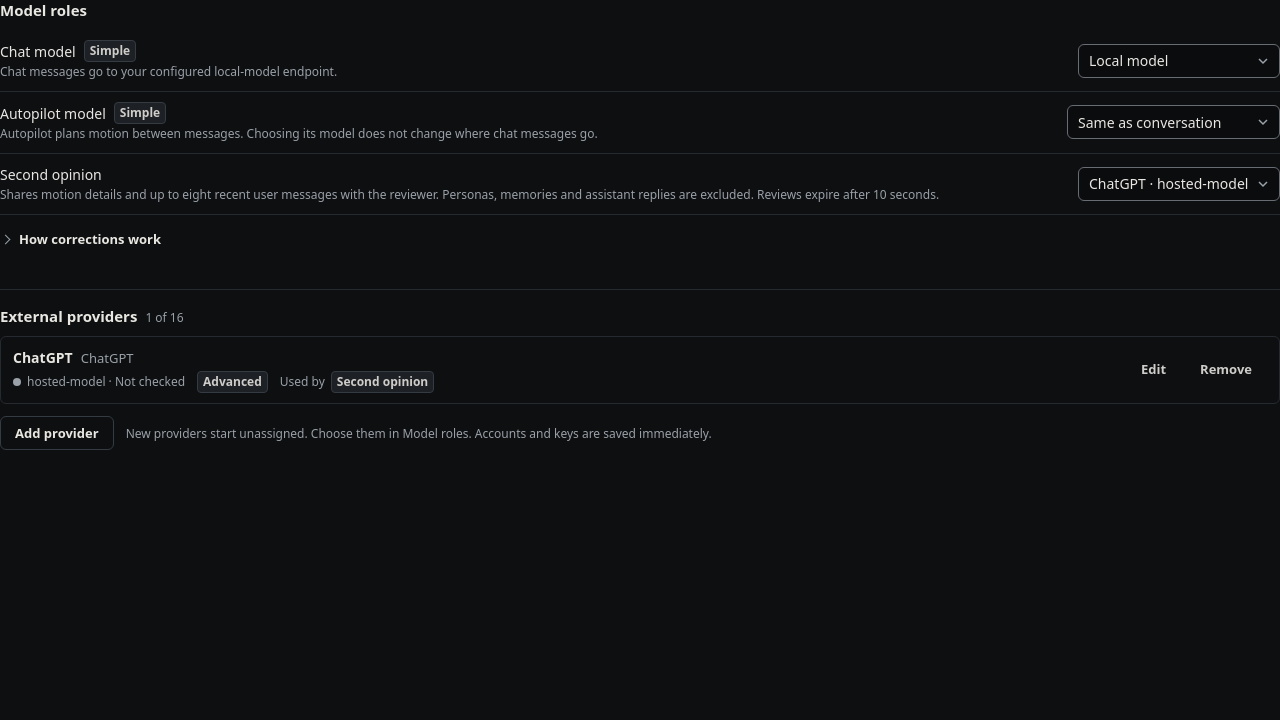
model roles and external providers › turns review off when its provider is removed instead of assigning the local model as its own reviewer
Click the button with aria-label "Remove · ChatGPT": (1226, 370) [1185,353,1267,387]
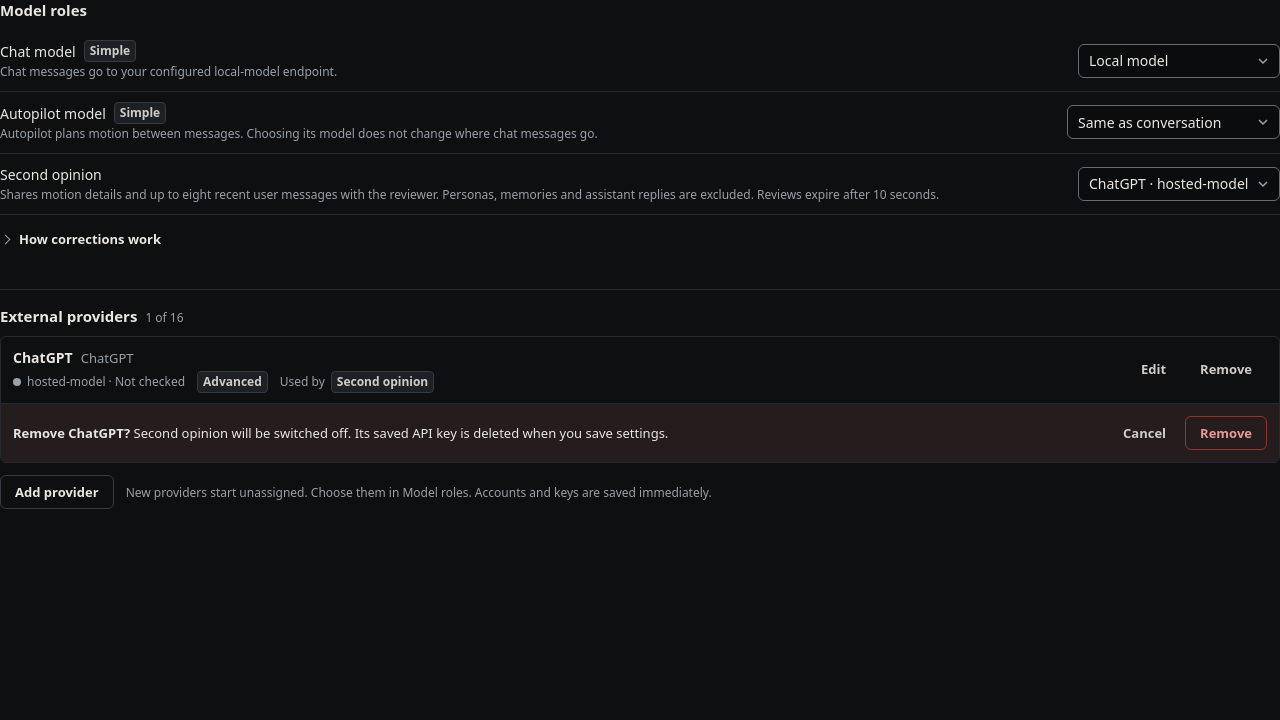
Result: the dialog "Remove ChatGPT?" shows "Second opinion will be switched off." at [134,424,668,442]
Click the button "Remove" in the row of "Remove ChatGPT?": (1226, 433) [1185,416,1267,450]
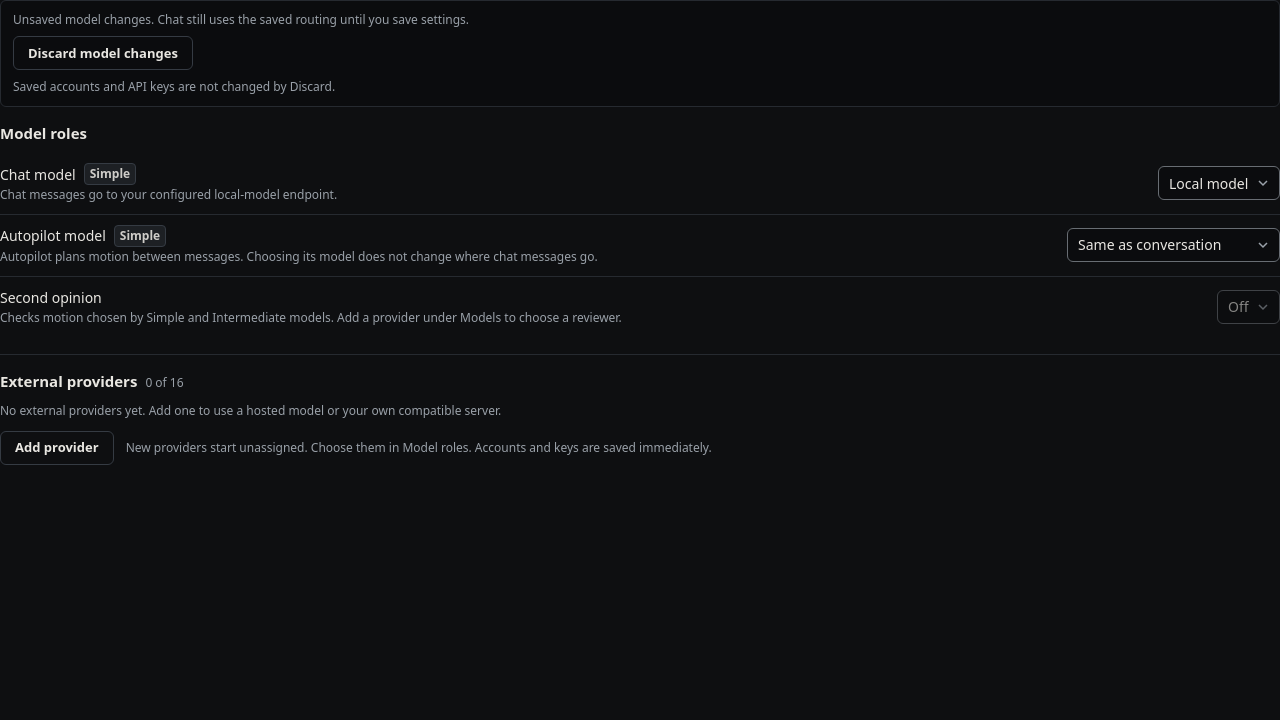
Expected: the dropdown labelled "Chat model" shows "Local model", [1158,166,1279,200]
Result: the dropdown labelled "Second opinion" shows "Off" at [1217,290,1279,324]
